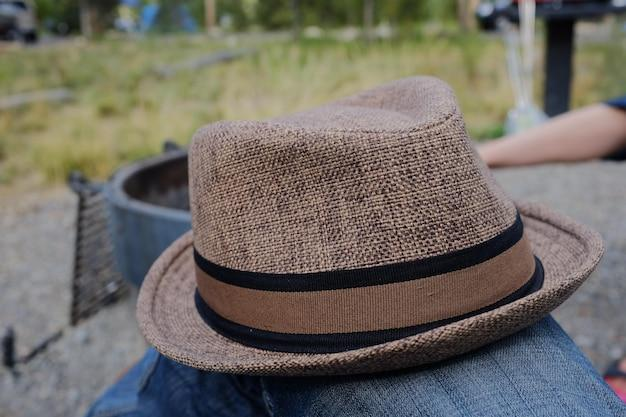cap: (137, 71, 606, 370)
